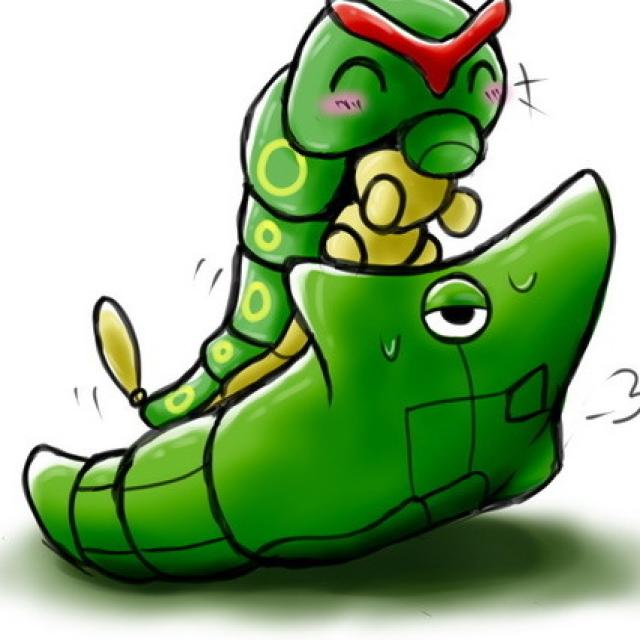Caterpie: (226, 0, 518, 272)
Metapod: (21, 186, 612, 563)
